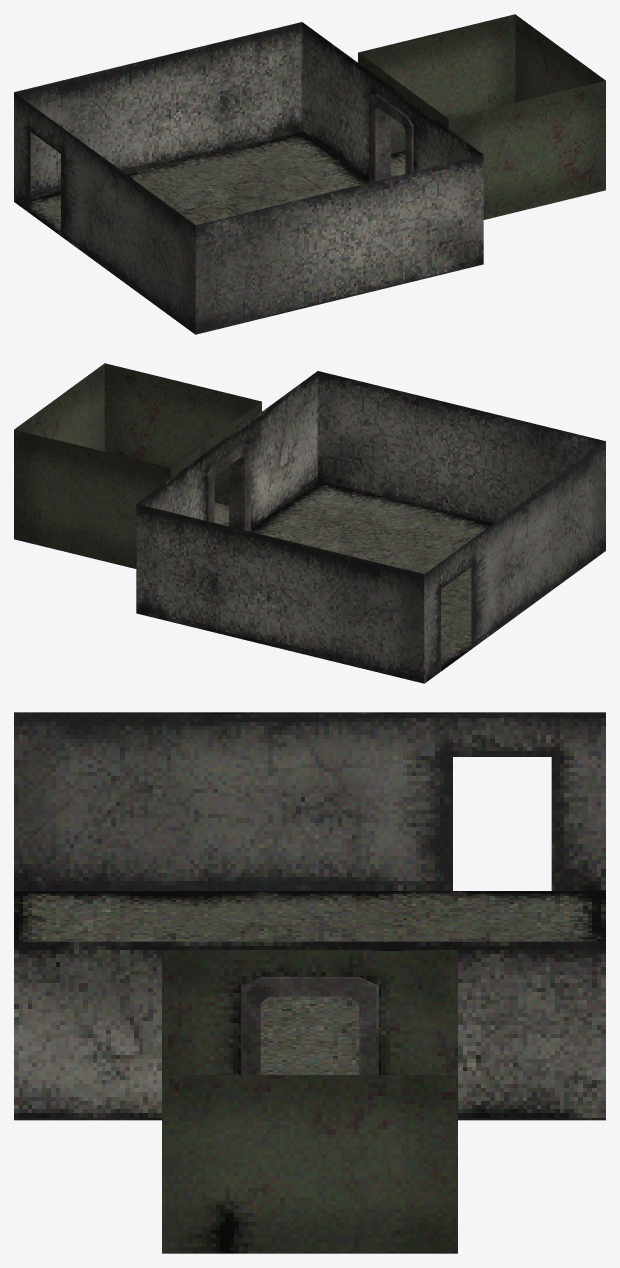
File: f_map.glb
The picture shows the model from 3 angles, top to bottom: view 1: azimuth 30°, elevation 25°; view 2: azimuth 150°, elevation 25°; view 3: azimuth 270°, elevation 25°; orthographic projection. The views are drawn at different scales.
Parts seen in each view (by area): view 1: Plane; view 2: Plane; view 3: Plane.
Boxes of the visible parts, left/top/right/bottom form: Plane: left=14, top=14, right=605, bottom=334; Plane: left=14, top=363, right=605, bottom=683; Plane: left=14, top=712, right=605, bottom=1253.
Bounding box in the file's own units: 17.4 × 4 × 12.
Materials: 5 (5 with a texture image).
